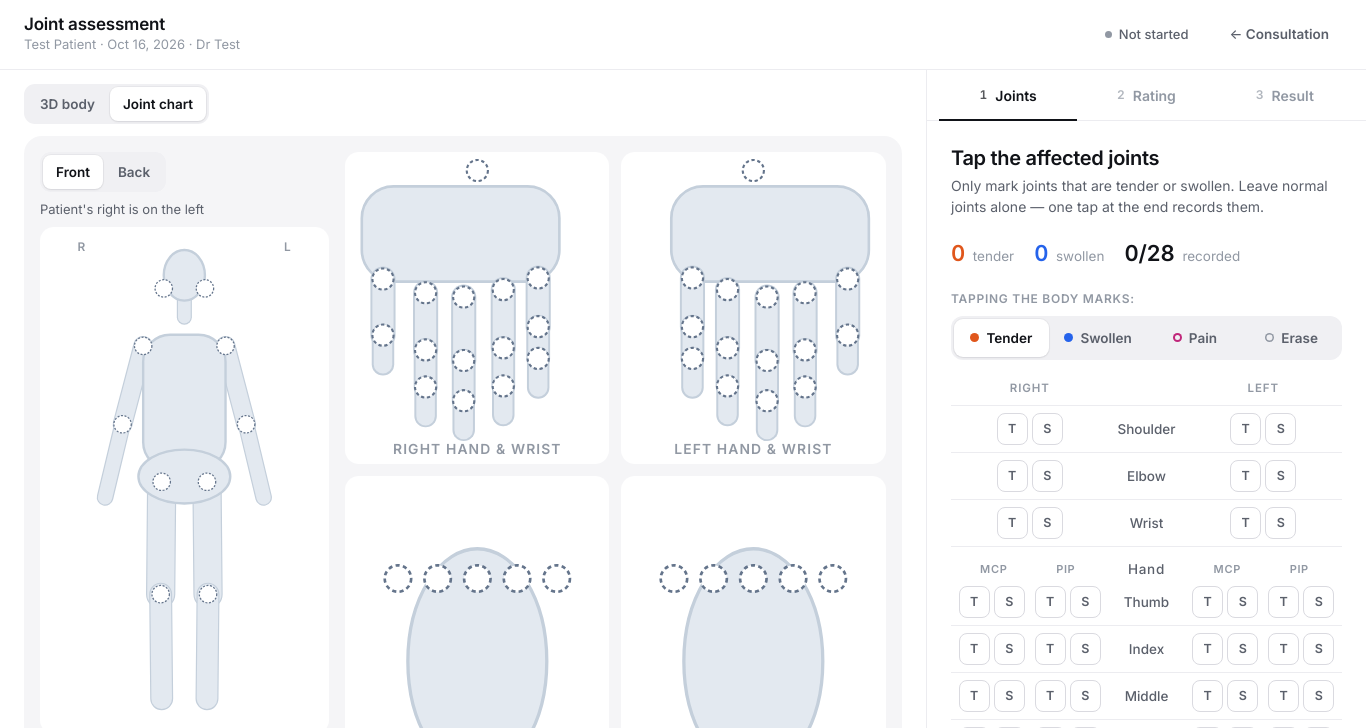
Scenario: saving and reopening › a failed save keeps every answer on screen and says so
Expected: the text with test id "assessment-status" does not show "Loading", [1105,25,1188,44]
Click the button named "Right wrist tender" at (1012, 523), box [997,507,1028,539]
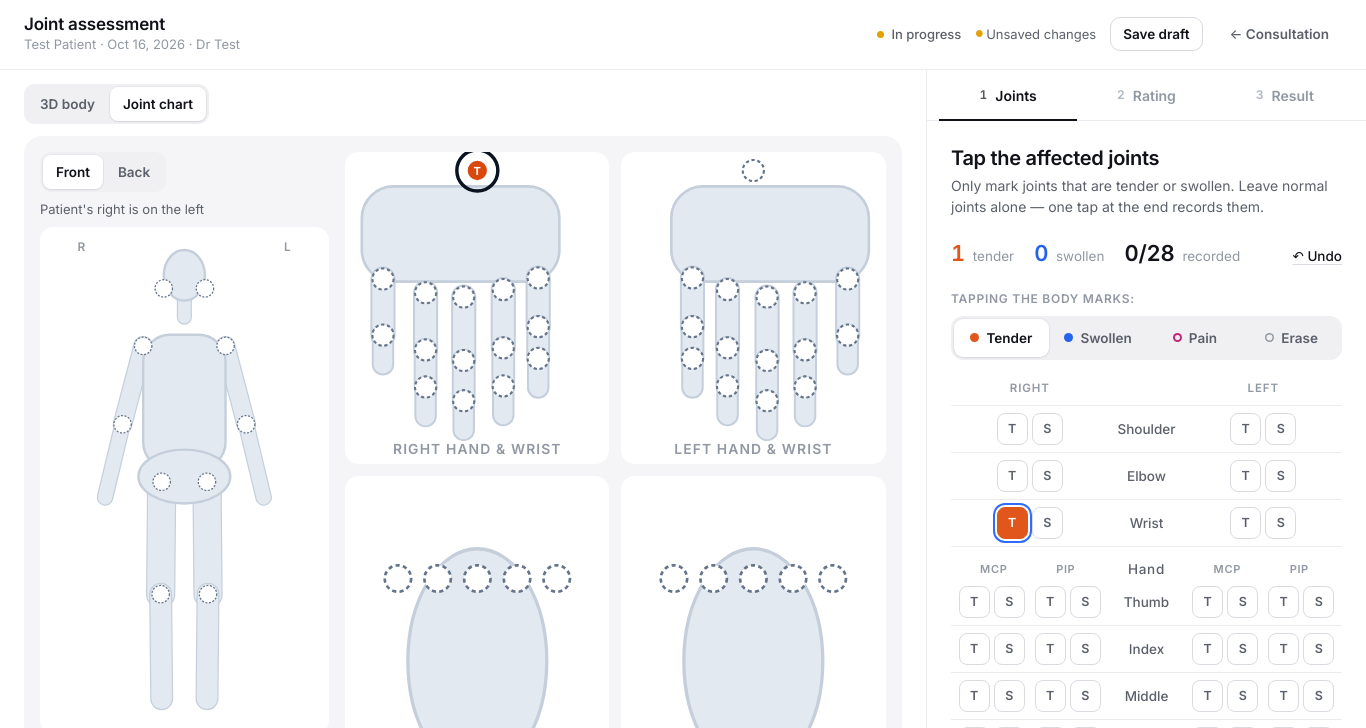
Click the button "Save draft" at (1156, 34), box [1110,17,1202,51]
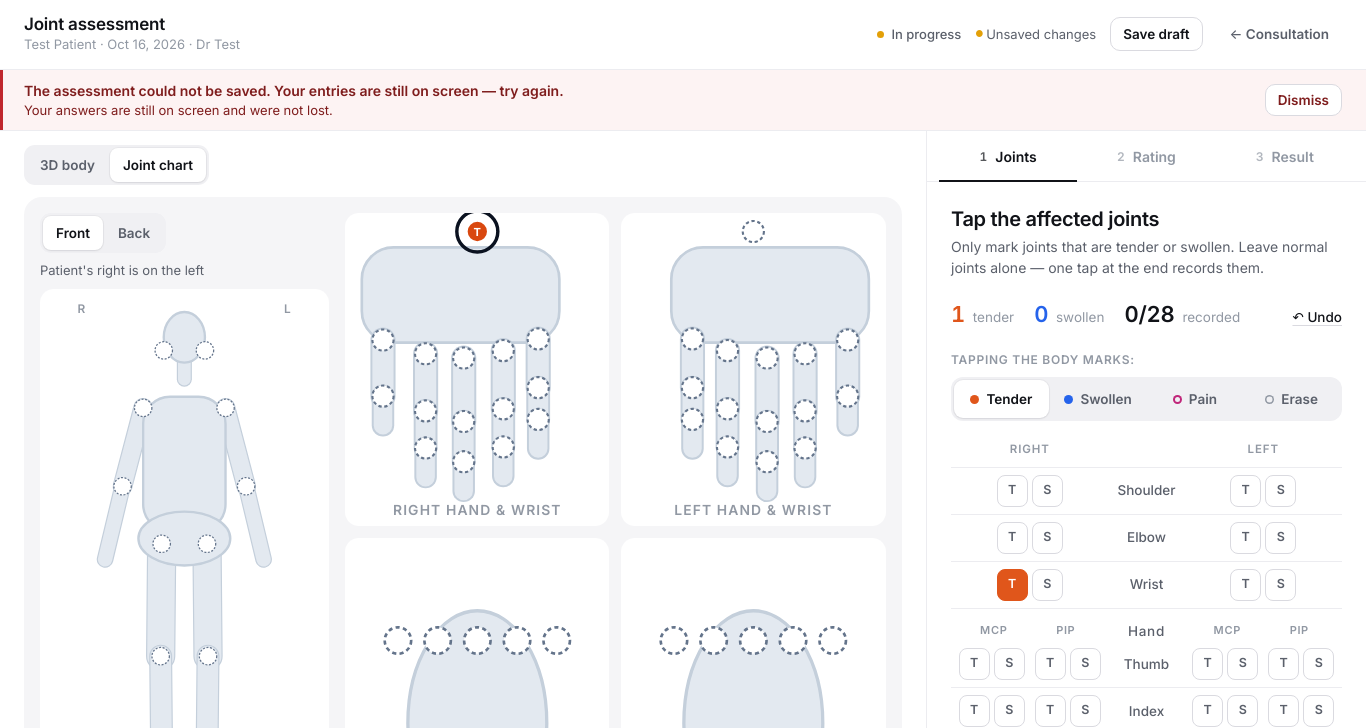
Expected: the text with test id "save-state" reads "Unsaved changes", [986,26,1096,42]
Expected: the message shows "could not be saved", [24,82,564,99]
Expected: the message shows "still on screen", [24,82,564,99]
